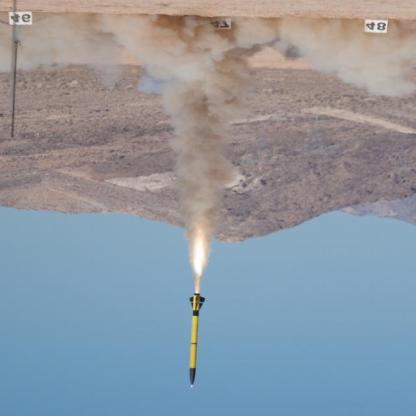MIL_TBM: (186, 292, 208, 389)
